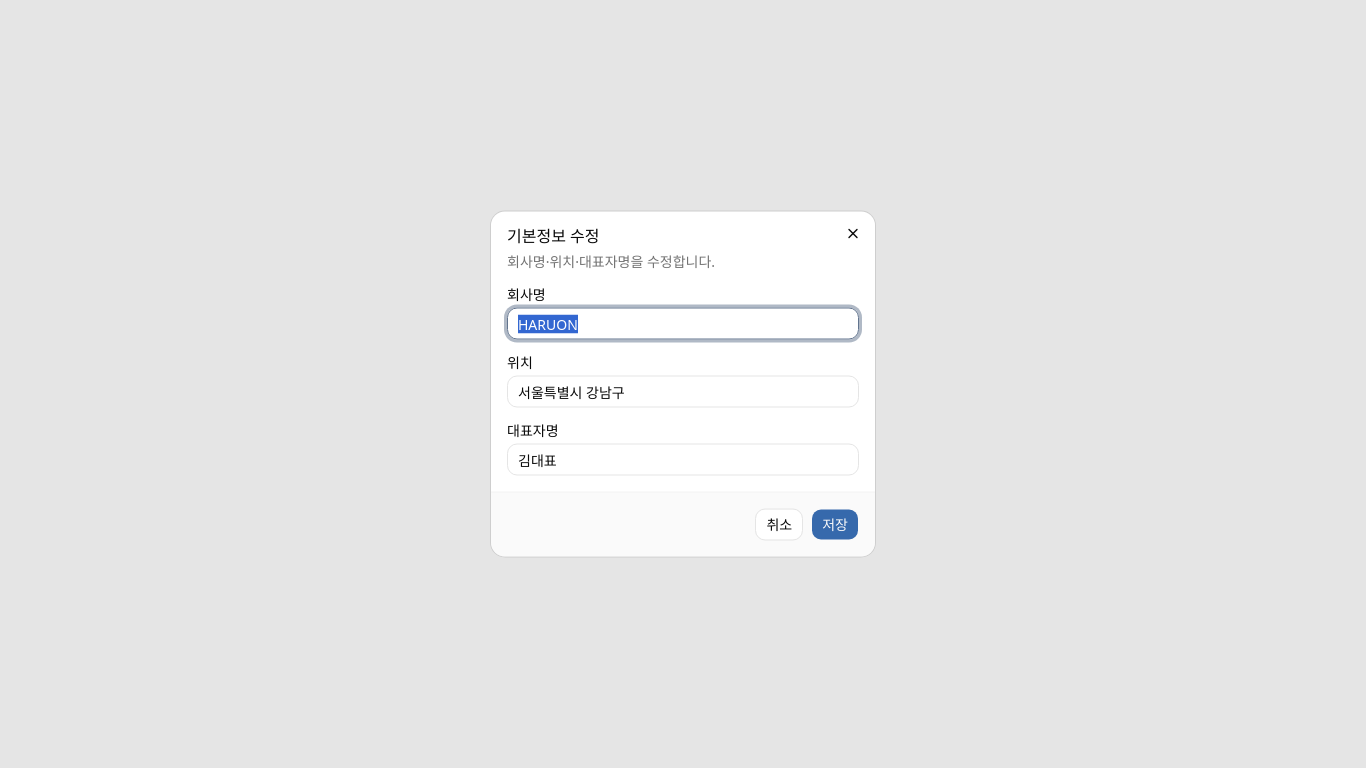
Test case: CompanyInfoEditDialog › 프리필값 그대로 제출(무변경)하면 root 에러를 노출하고 요청을 보내지 않는다
The width and height of the screenshot is (1366, 768).
Click the button "저장" at (835, 524), box [811,508,859,540]
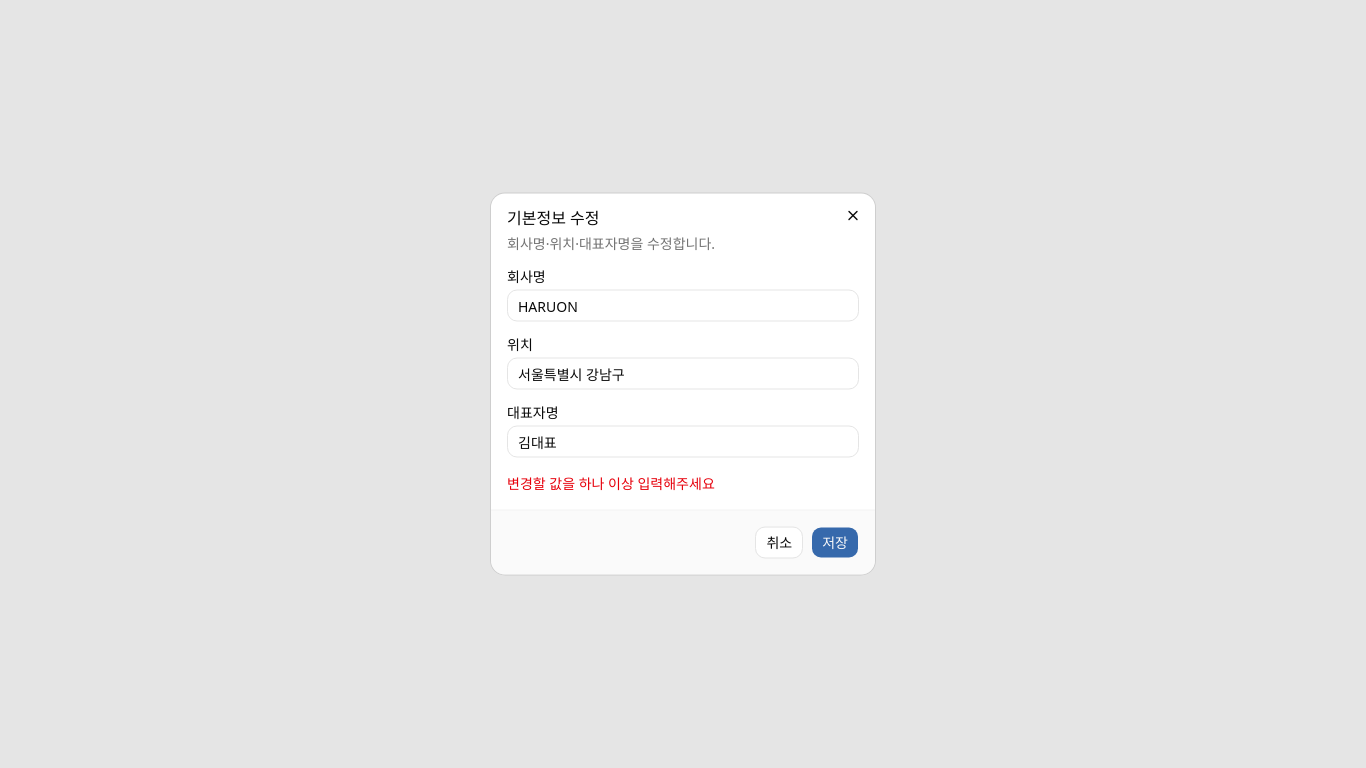
Now the text "변경할 값을 하나 이상 입력해주세요" is shown, box [507,474,715,492]
